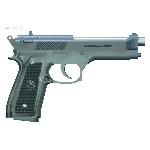Pistol: (5, 30, 146, 122)
